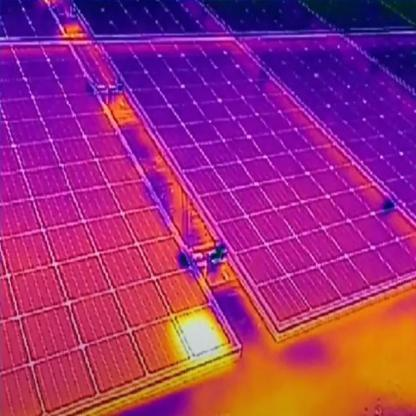anomaly: (166, 304, 229, 366)
